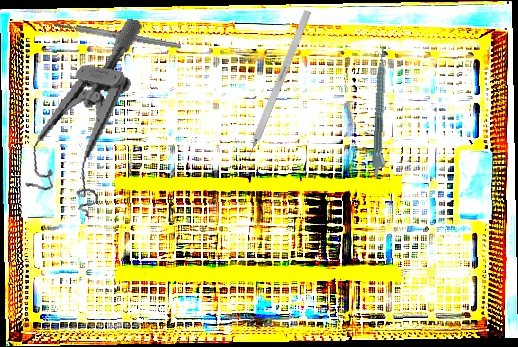Handpiece: (371, 47, 393, 178)
Hook Surgical: (240, 9, 312, 171)
Scalpel Handle: (53, 20, 182, 51)
Speculum: (20, 5, 144, 221)
